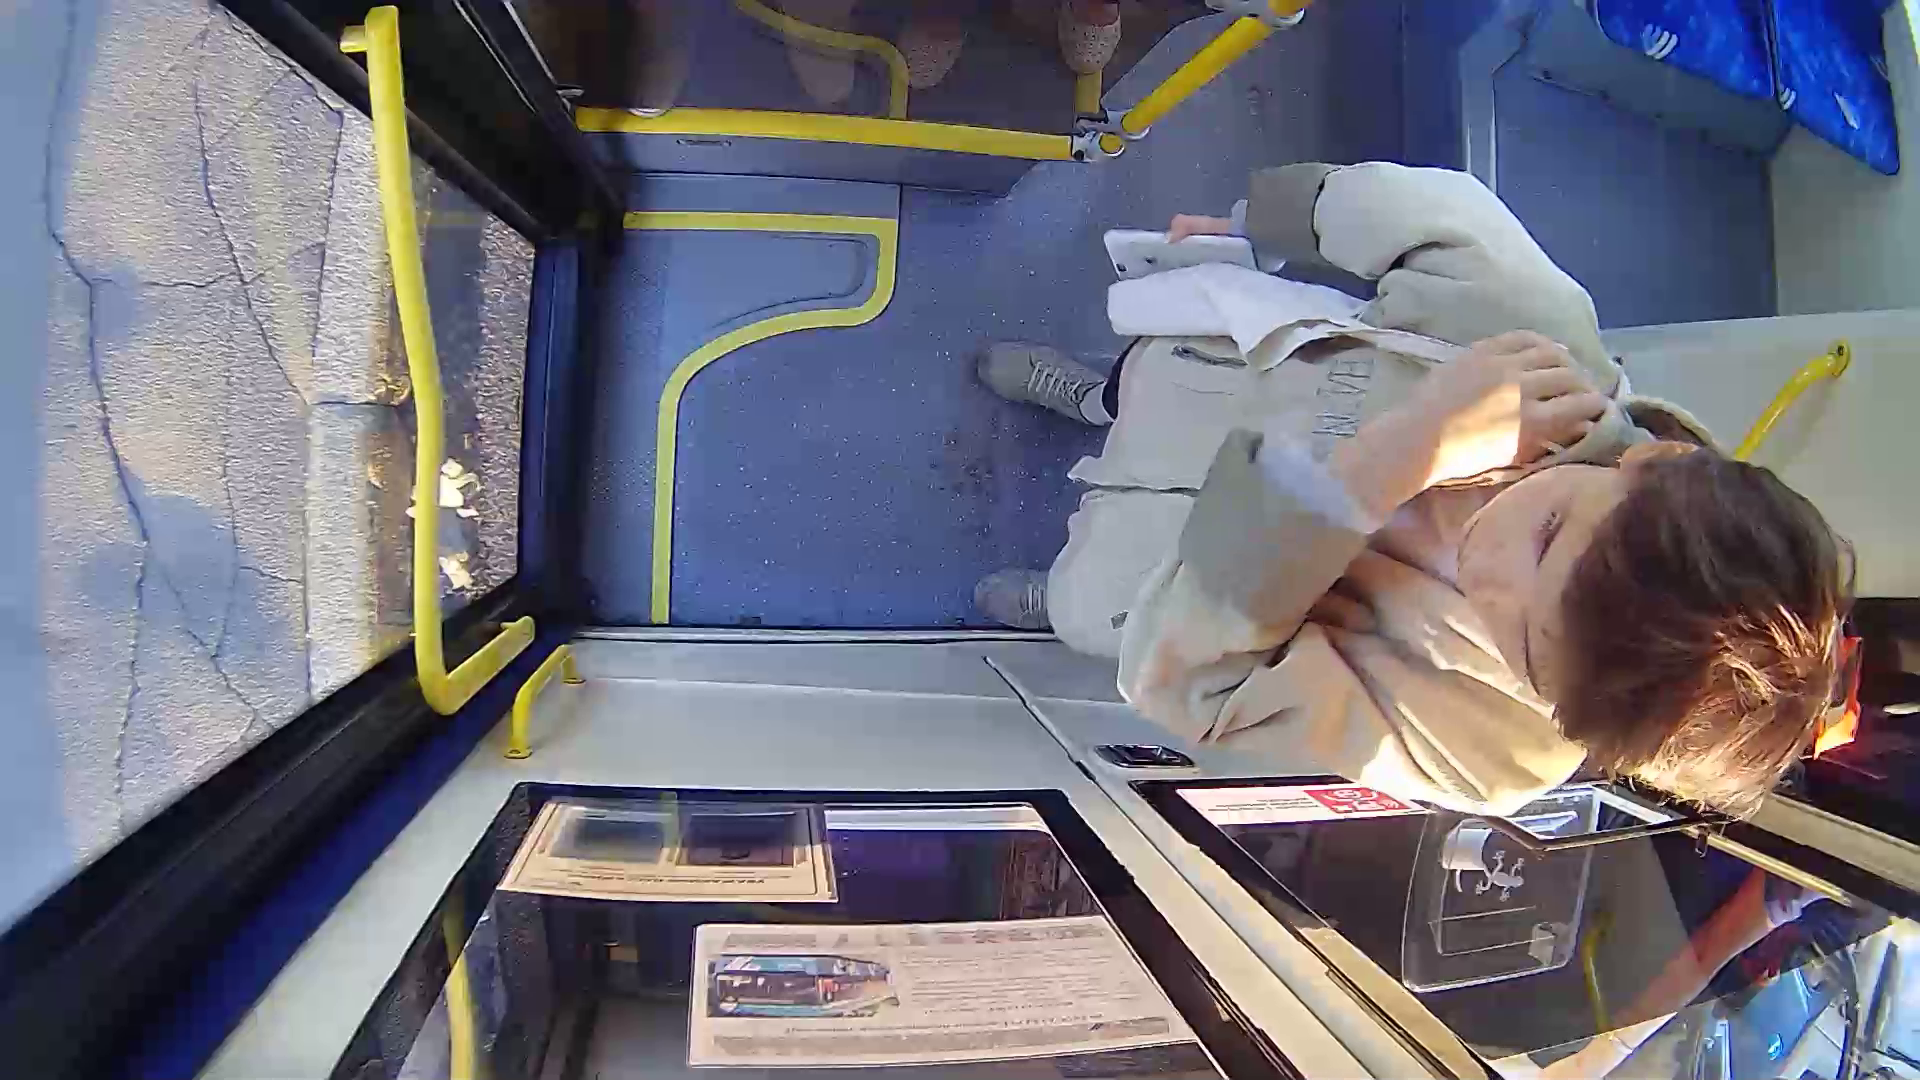person: (1000, 151, 1843, 832)
